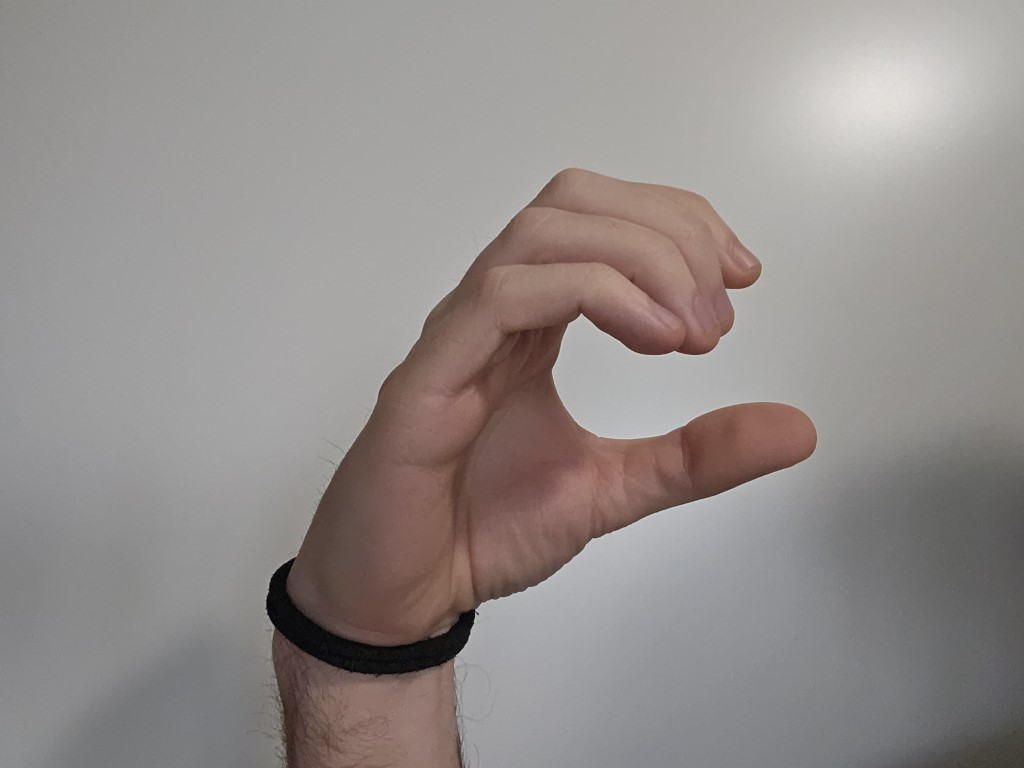c: (240, 158, 856, 587)
